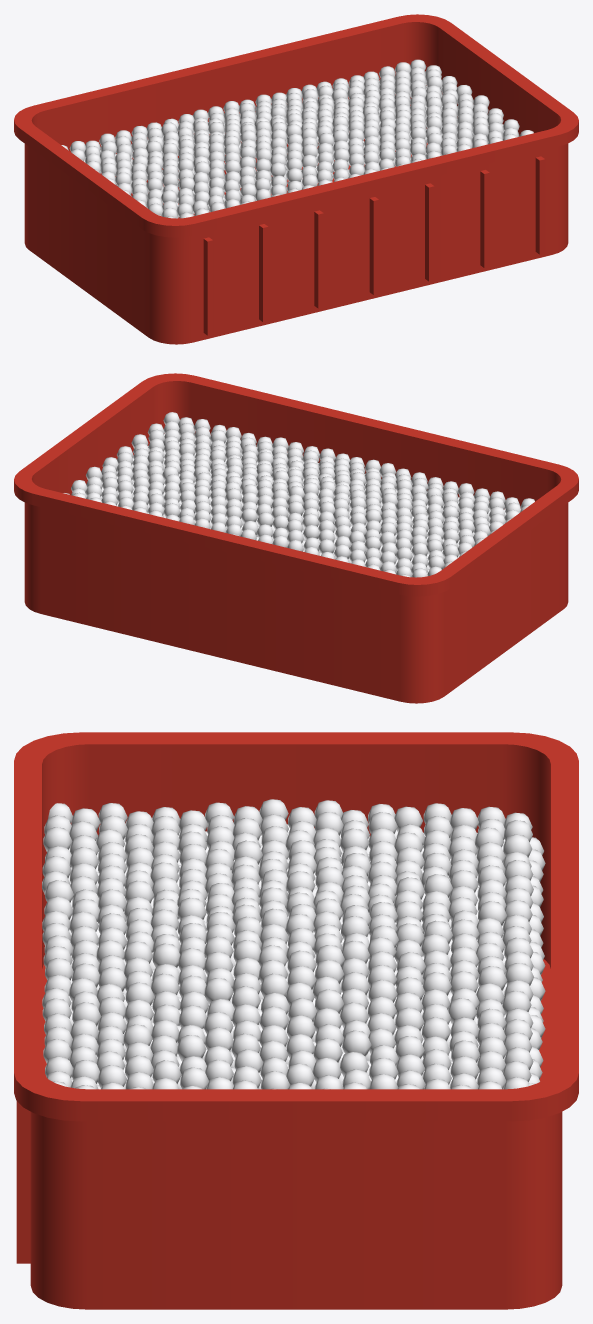
Rendered from BallBox.glb.
The picture shows the model from 3 angles, top to bottom: view 1: azimuth 30°, elevation 25°; view 2: azimuth 150°, elevation 25°; view 3: azimuth 270°, elevation 25°; orthographic projection. The views are drawn at different scales.
Visible parts, largest first — view 1: BB_Wall, BB_Balls, BB_Lip, BB_Rib3, BB_Rib-3, BB_Rib1, BB_Rib-1, BB_Rib-2, BB_Rib0, BB_Rib2; view 2: BB_Wall, BB_Balls, BB_Lip; view 3: BB_Wall, BB_Balls, BB_Lip, BB_Rib3, BB_Floor.
Part boxes in pixels (x1,y1,x2,y2): BB_Wall: [24, 19, 568, 344]; BB_Balls: [61, 59, 533, 218]; BB_Lip: [14, 14, 578, 237]; BB_Rib3: [535, 156, 545, 254]; BB_Rib-3: [203, 237, 212, 335]; BB_Rib1: [425, 183, 434, 281]; BB_Rib-1: [314, 210, 323, 308]; BB_Rib-2: [259, 224, 268, 321]; BB_Rib0: [369, 197, 378, 294]; BB_Rib2: [480, 170, 489, 267]; BB_Wall: [24, 378, 568, 703]; BB_Balls: [63, 412, 534, 577]; BB_Lip: [14, 373, 578, 596]; BB_Wall: [30, 739, 562, 1309]; BB_Balls: [42, 799, 545, 1089]; BB_Lip: [14, 732, 578, 1121]; BB_Rib3: [16, 1101, 30, 1263]; BB_Floor: [42, 959, 550, 1081].
Size of the model in its own units: 0.312 by 0.085 by 0.202.
